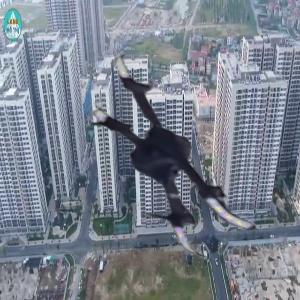drone: (77, 42, 293, 258)
